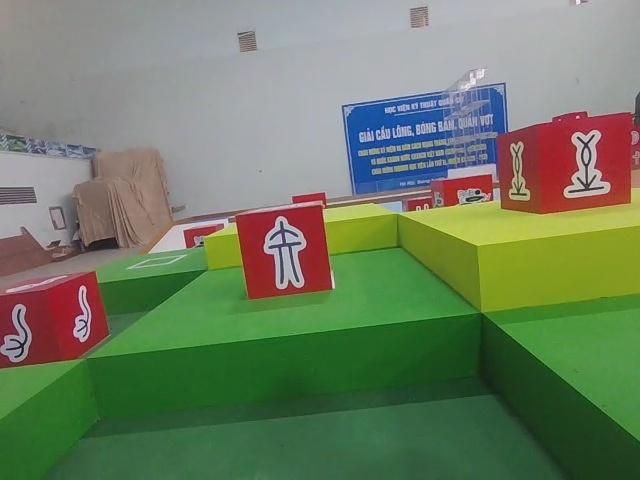R2 Fake: (233, 199, 334, 305)
R2 Real: (495, 111, 634, 217), (0, 268, 111, 370)
